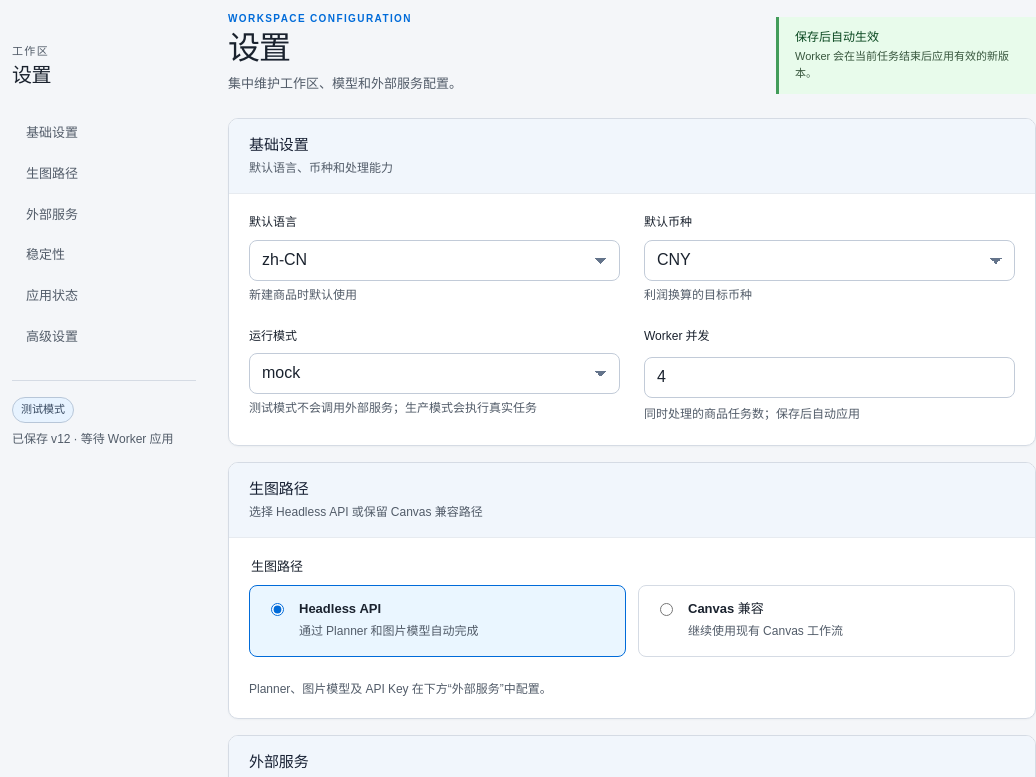
SettingsWorkspace › applies an immediately resolved PATCH result without observing a rendered saving state
Select "th-TH" in the dropdown labelled "默认语言" at (434, 260), box x1=249 y1=240 x2=620 y2=281
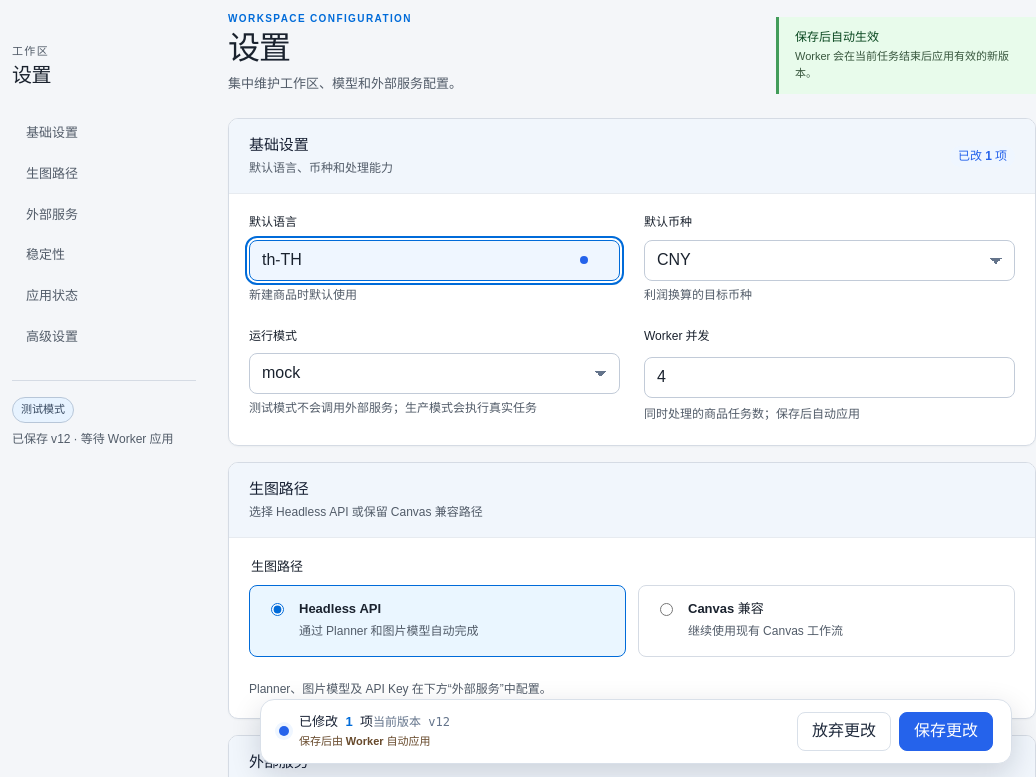
Click the button "保存更改" at (946, 731), box x1=899 y1=712 x2=993 y2=751
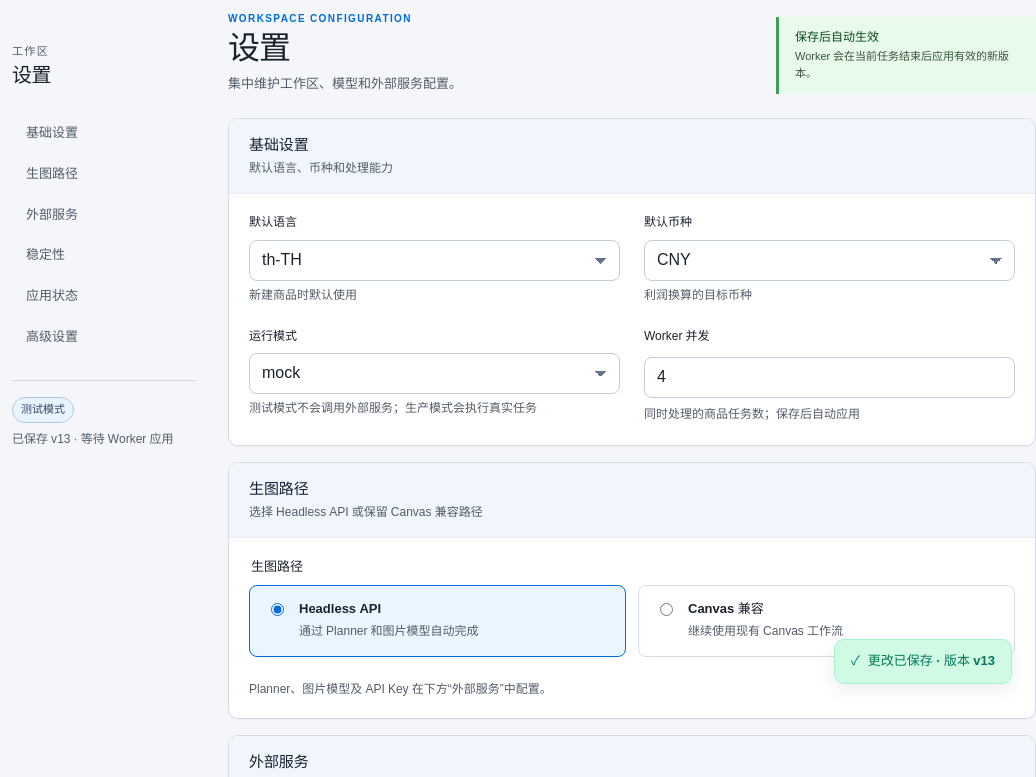
Now the element "保存栏" is gone
Now the message shows "更改已保存", box x1=868 y1=651 x2=995 y2=671
Now the message shows "v13", box x1=868 y1=651 x2=995 y2=671
